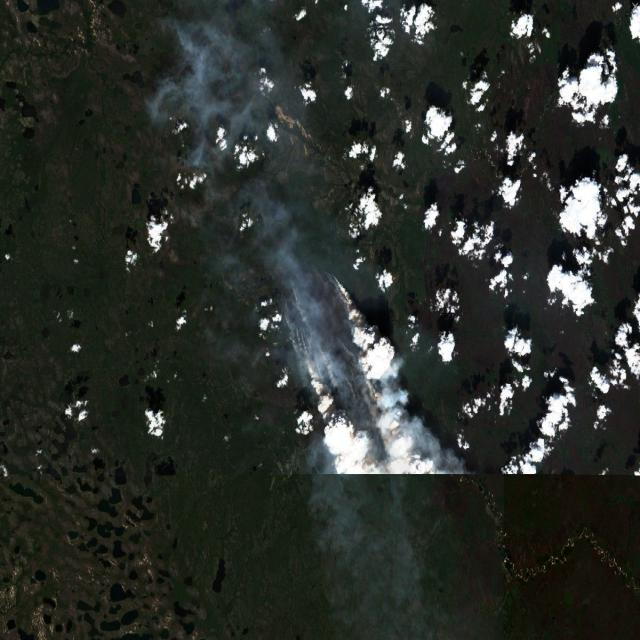fire: (276, 243, 434, 472)
